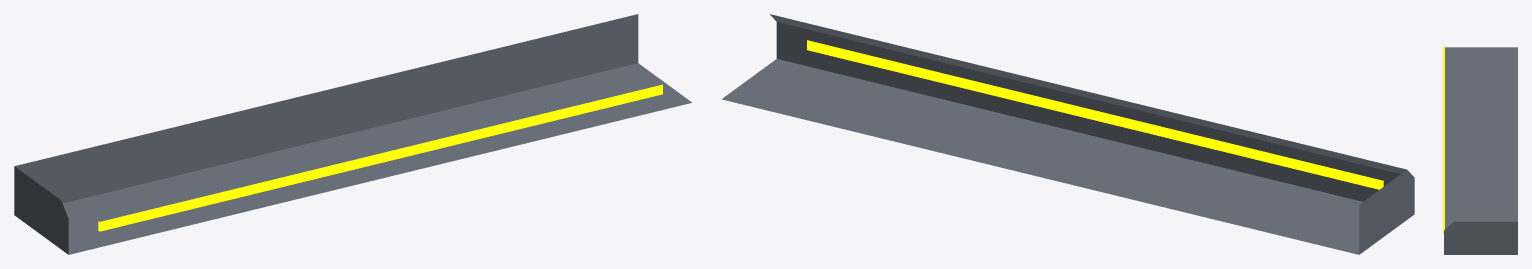
File: ext_curb_segment_01.glb
3 views of the same model, side by side, from view 1: azimuth 30°, elevation 25°; view 2: azimuth 150°, elevation 25°; view 3: azimuth 270°, elevation 25° (orthographic). The views are drawn at different scales.
Visible parts, largest first — view 1: Curb, Reflector_Strip; view 2: Curb, Reflector_Strip; view 3: Curb, Reflector_Strip.
Boxes of the visible parts, <box> form: Curb: <box>14,14,691,254</box>; Reflector_Strip: <box>98,84,662,231</box>; Curb: <box>722,14,1414,254</box>; Reflector_Strip: <box>807,40,1383,189</box>; Curb: <box>1444,47,1517,254</box>; Reflector_Strip: <box>1443,46,1444,233</box>.
Bounding box in the file's own units: 1.99 × 0.15 × 0.304.
